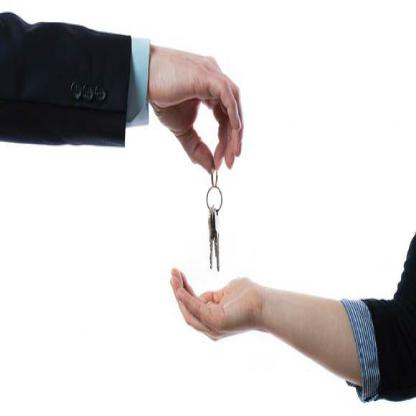keys: (204, 199, 223, 275)
